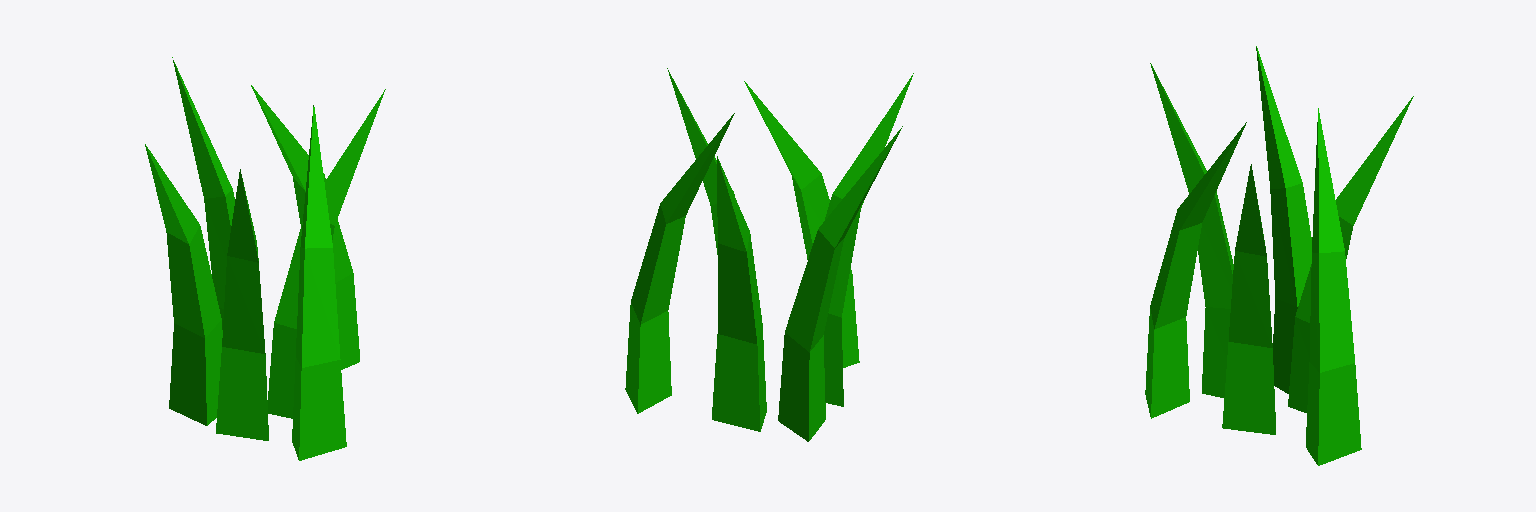
Rendered from grass.obj.
The picture shows the model from 3 angles: view 1: azimuth 30°, elevation 25°; view 2: azimuth 150°, elevation 25°; view 3: azimuth 270°, elevation 25°; orthographic projection.
Parts seen in each view (by area): view 1: Plane; view 2: Plane; view 3: Plane.
Part boxes in pixels (bbox=[...]): Plane: bbox=[145, 57, 385, 460]; Plane: bbox=[625, 68, 913, 441]; Plane: bbox=[1145, 46, 1413, 465].
Bounding box in the file's own units: 4.31 × 5.2 × 4.07.